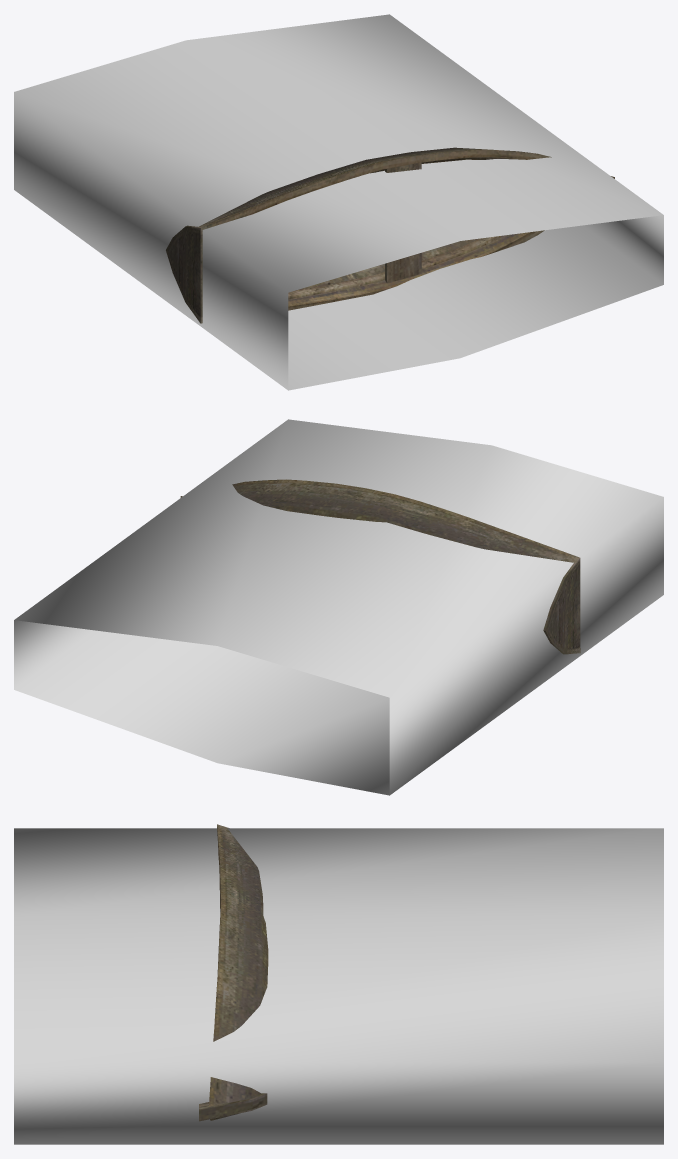
Rendered from hd_env020_Boat2.glb.
The picture shows the model from 3 angles, top to bottom: view 1: azimuth 30°, elevation 25°; view 2: azimuth 150°, elevation 25°; view 3: azimuth 270°, elevation 25°; orthographic projection. The views are drawn at different scales.
Parts seen in each view (by area): view 1: set_0_group_0, set_0_group_1; view 2: set_0_group_0, set_0_group_1; view 3: set_0_group_0, set_0_group_1.
Boxes of the visible parts, left/top/right/bottom form: set_0_group_0: left=14, top=14, right=663, bottom=390; set_0_group_1: left=166, top=147, right=614, bottom=323; set_0_group_0: left=14, top=419, right=663, bottom=795; set_0_group_1: left=180, top=479, right=580, bottom=654; set_0_group_0: left=14, top=828, right=663, bottom=1144; set_0_group_1: left=199, top=824, right=268, bottom=1121.
Bounding box in the file's own units: 2.73 × 0.8653 × 3.19.
2 materials, 1 textured.
